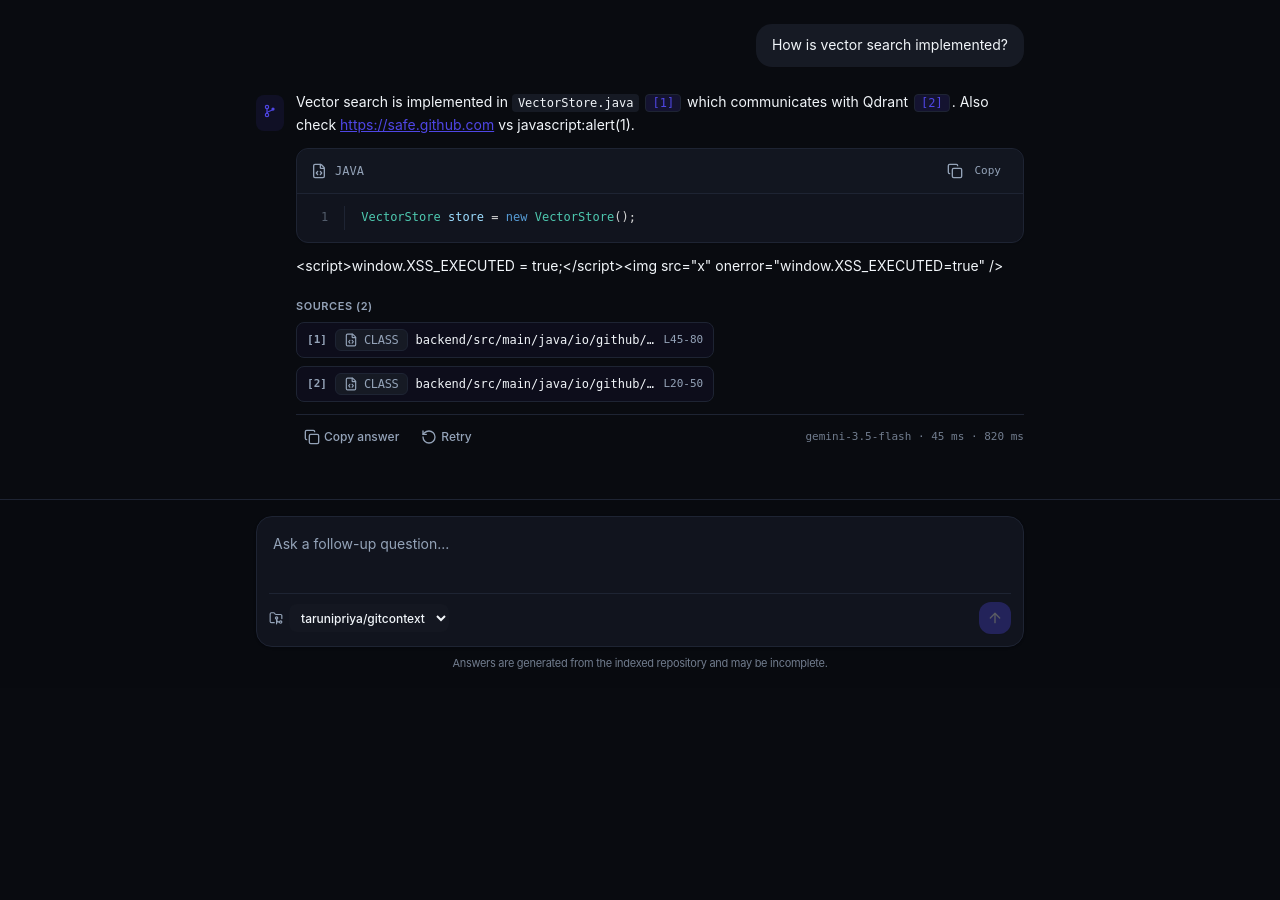
Test: ConversationView Component › copy answer button writes answer markdown to clipboard
Click the button "Copy answer": (352, 437) top-left (296, 423), bottom-right (407, 451)
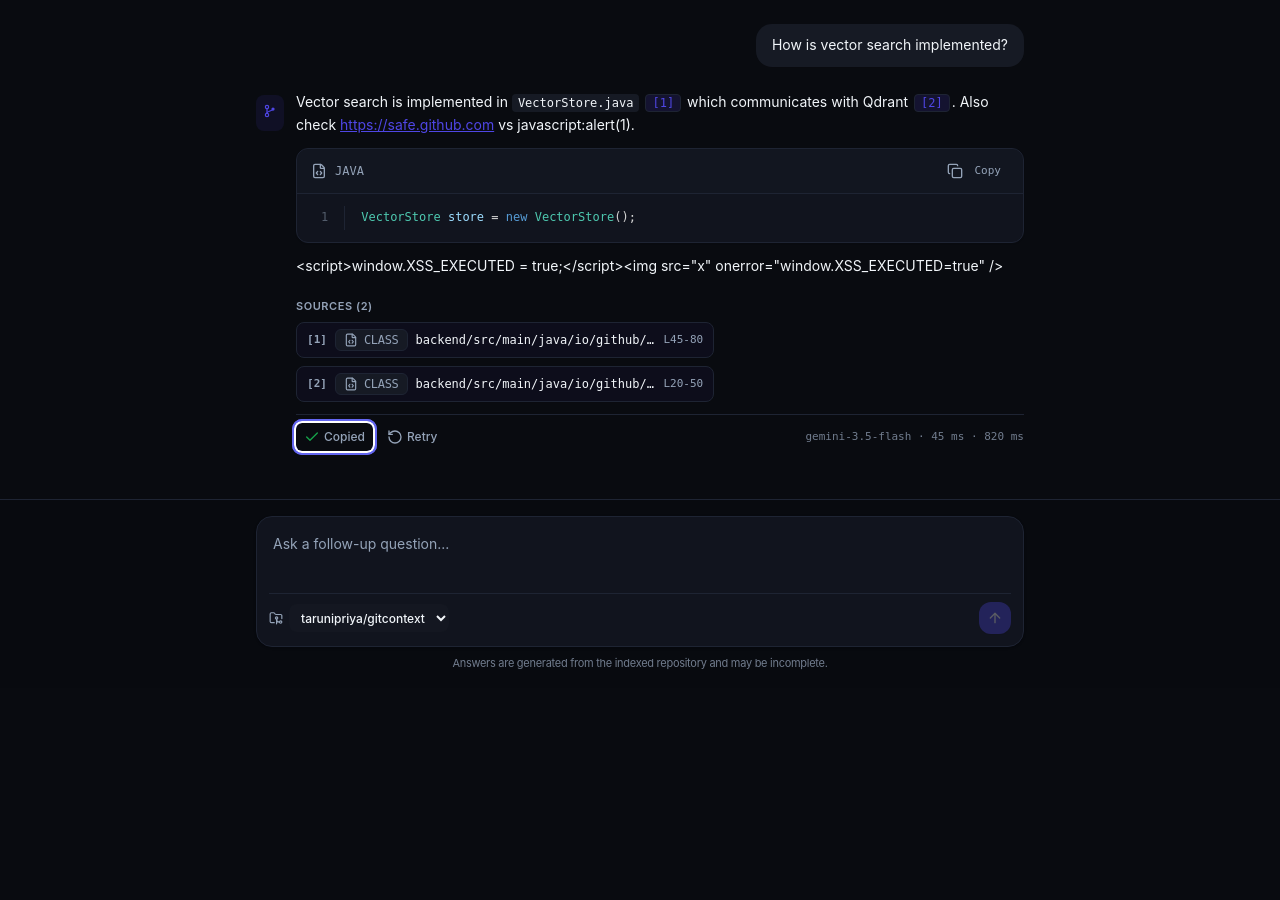
Expected: the text "Copied" is shown, top-left (324, 429), bottom-right (365, 445)
